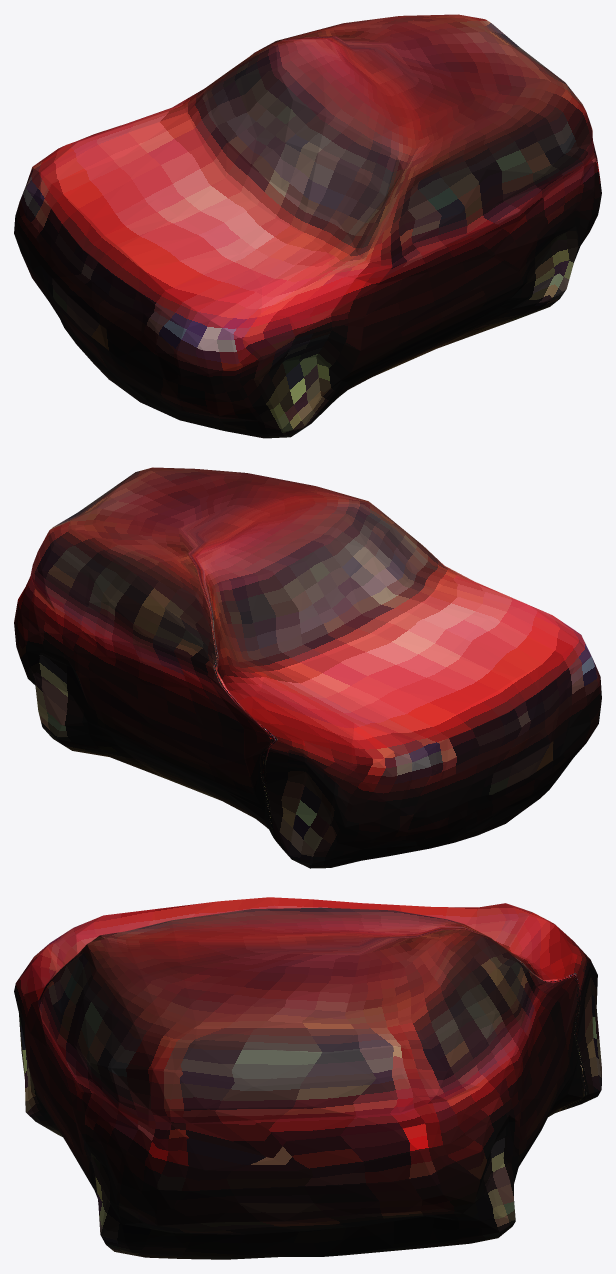
File: video3_114.obj
3 views of the same model, one above another, from view 1: azimuth 30°, elevation 25°; view 2: azimuth 150°, elevation 25°; view 3: azimuth 270°, elevation 25° (orthographic). The views are drawn at different scales.
Size of the model in its own units: 1 by 0.4988 by 0.854.
1 material, 1 textured.
